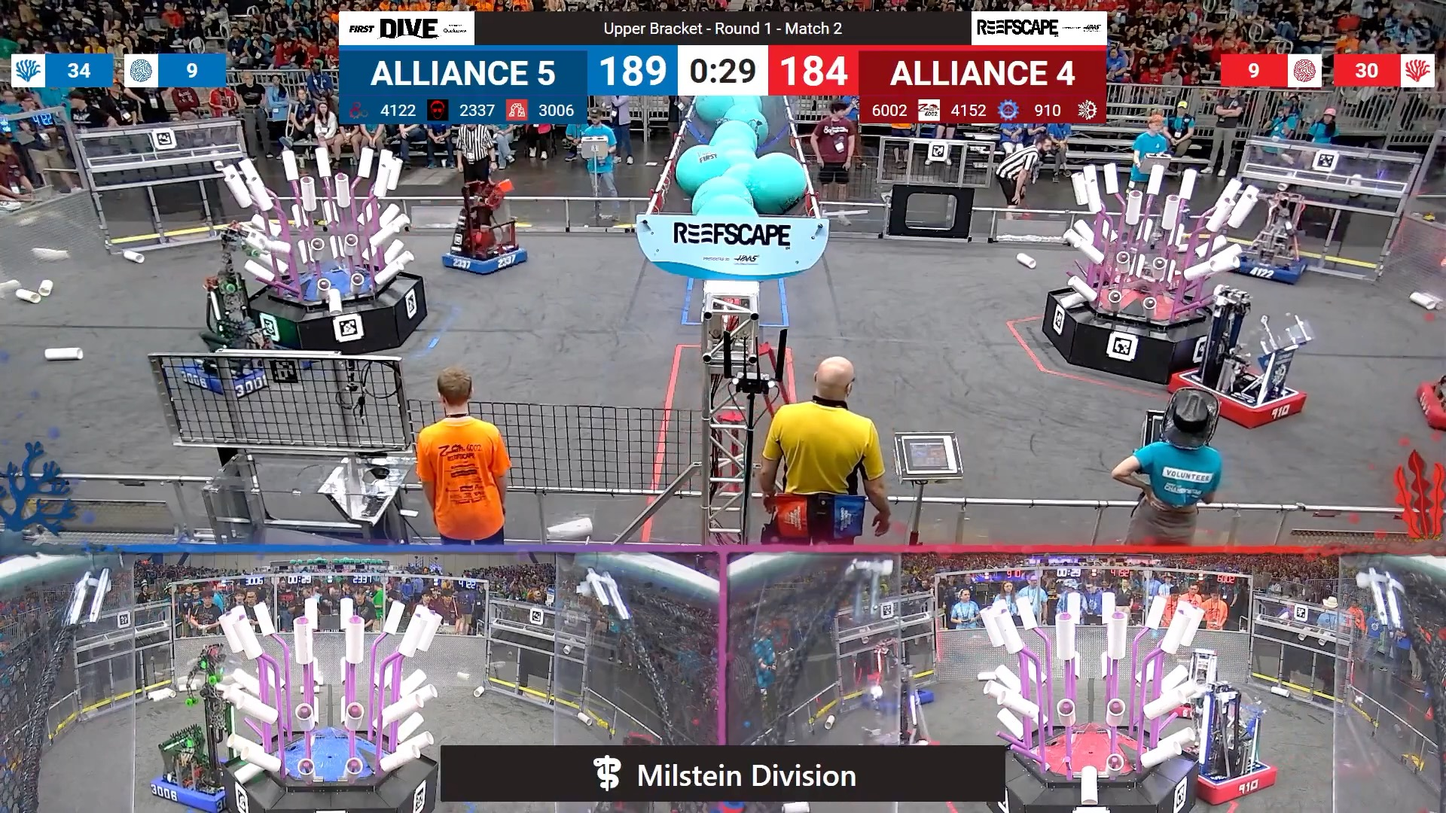bumpers: (1167, 371, 1314, 434), (169, 349, 299, 400), (147, 759, 257, 811), (1173, 753, 1283, 804), (433, 242, 535, 278), (1224, 248, 1316, 287), (1414, 374, 1444, 443)
